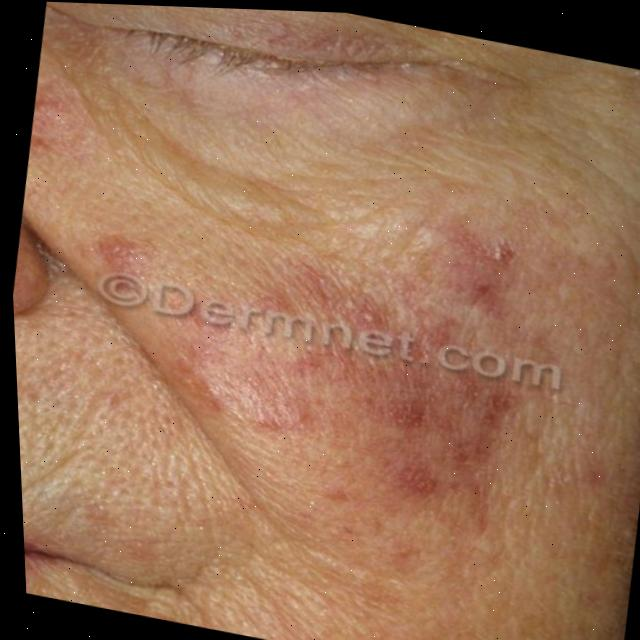Rosacea: (172, 196, 594, 546)
